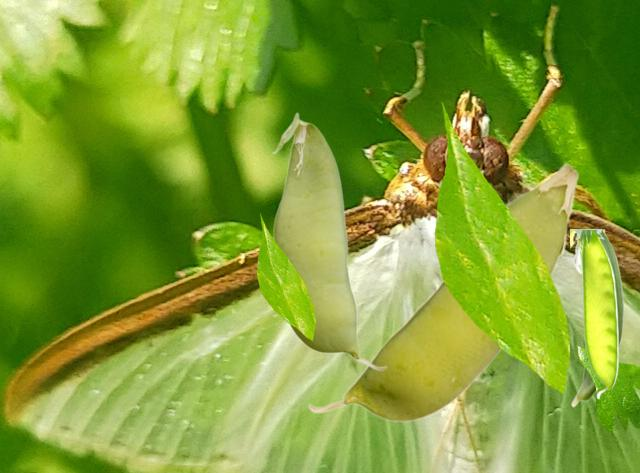pea: (307, 163, 578, 421), (271, 112, 387, 370), (570, 229, 624, 406), (580, 230, 617, 398)
